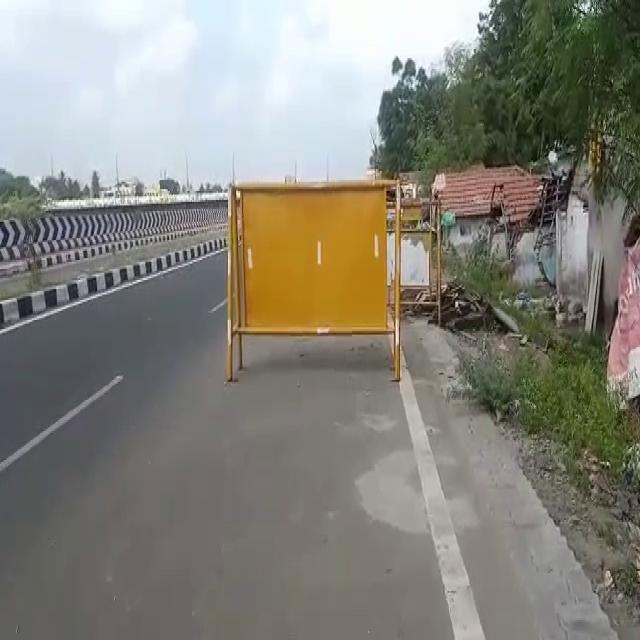fallen_object: (207, 153, 416, 395)
